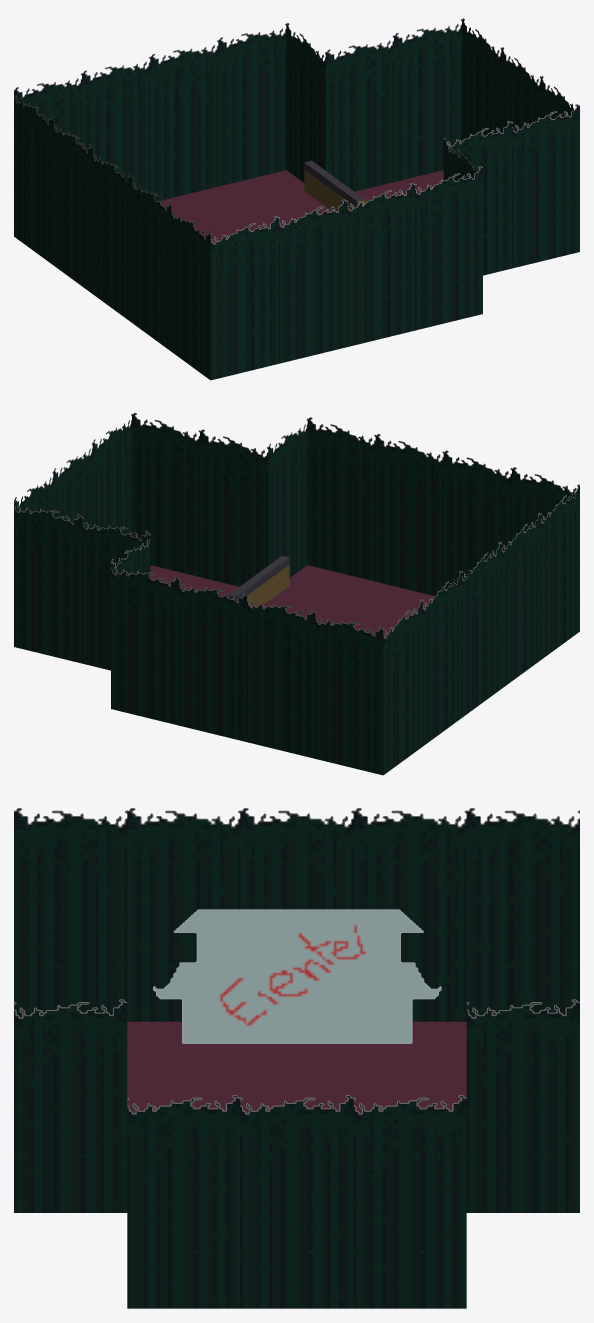
File: stage2WIP.fbx
The picture shows the model from 3 angles, top to bottom: view 1: azimuth 30°, elevation 25°; view 2: azimuth 150°, elevation 25°; view 3: azimuth 270°, elevation 25°; orthographic projection. The views are drawn at different scales.
Visible parts, largest first — view 1: polySurface14, pCube1_f_2_; view 2: polySurface14, pCube1_f_2_; view 3: polySurface14, polySurface10.
Boxes of the visible parts, x1,y1,x2,y2 form: polySurface14: (14, 18, 579, 380); pCube1_f_2_: (304, 160, 364, 211); polySurface14: (14, 413, 579, 775); pCube1_f_2_: (229, 555, 289, 607); polySurface14: (14, 808, 579, 1308); polySurface10: (153, 909, 441, 1043).
Size of the model in its own units: 137 by 48.42 by 114.
3 materials, 3 textured.
